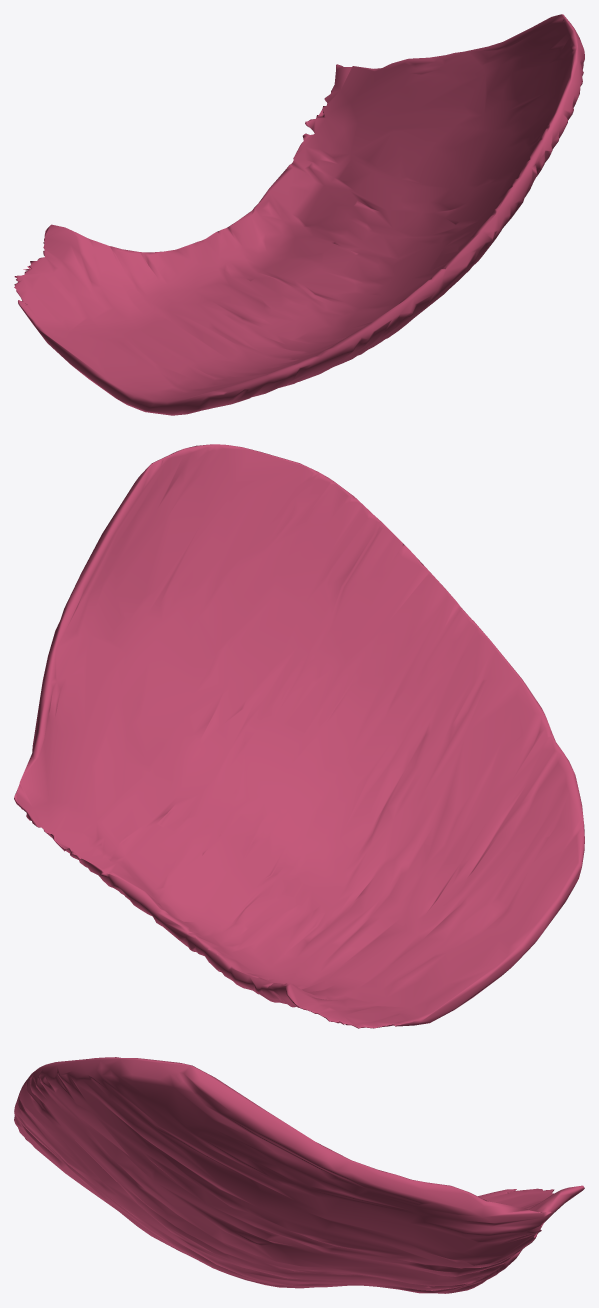
3 renders of one model, top to bottom at view 1: azimuth 30°, elevation 25°; view 2: azimuth 150°, elevation 25°; view 3: azimuth 270°, elevation 25°, orthographic. The views are drawn at different scales.
Visible parts, largest first — view 1: 左侧额肌; view 2: 左侧额肌; view 3: 左侧额肌.
Boxes of the visible parts, x1=… form: 左侧额肌: x1=14, y1=14, x2=584, y2=415; 左侧额肌: x1=14, y1=444, x2=584, y2=1028; 左侧额肌: x1=14, y1=1057, x2=584, y2=1293.
Bounding box in the file's own units: 0.0861 × 0.0691 × 0.1033.
